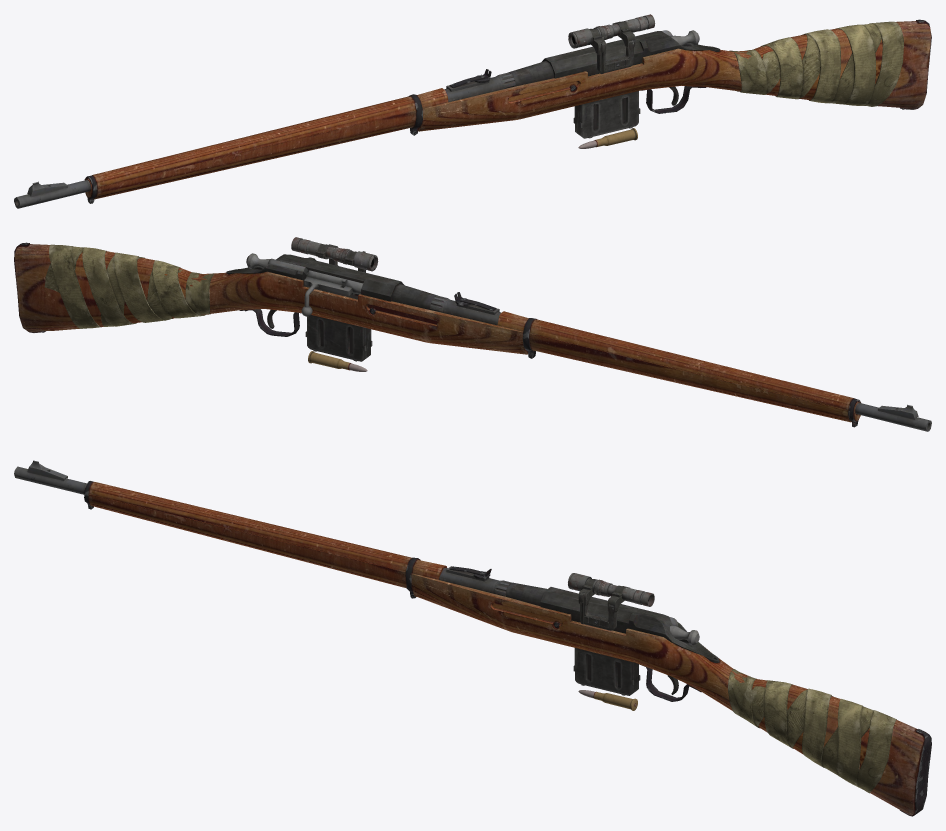
Rendered from sniper.glb.
3 renders of one model, top to bottom at view 1: azimuth 30°, elevation 25°; view 2: azimuth 150°, elevation 25°; view 3: azimuth 330°, elevation 25°, orthographic.
Parts seen in each view (by area): view 1: bolt_action_rifle_7_62, bolt_action_rifle_7_62_wrap, bolt_action_rifle_7_62_scope, bolt_action_rifle_7_62_bullet_54mm; view 2: bolt_action_rifle_7_62, bolt_action_rifle_7_62_wrap, bolt_action_rifle_7_62_scope, bolt_action_rifle_7_62_bolt_a, bolt_action_rifle_7_62_bullet_54mm, bolt_action_rifle_7_62_bolt_b; view 3: bolt_action_rifle_7_62, bolt_action_rifle_7_62_wrap, bolt_action_rifle_7_62_scope.
Part boxes in pixels (left/top/right/bottom): bolt_action_rifle_7_62: left=14, top=19, right=931, bottom=208; bolt_action_rifle_7_62_wrap: left=729, top=21, right=903, bottom=106; bolt_action_rifle_7_62_scope: left=568, top=14, right=655, bottom=74; bolt_action_rifle_7_62_bullet_54mm: left=578, top=128, right=637, bottom=148; bolt_action_rifle_7_62: left=14, top=242, right=931, bottom=431; bolt_action_rifle_7_62_wrap: left=44, top=244, right=214, bottom=328; bolt_action_rifle_7_62_scope: left=291, top=237, right=378, bottom=272; bolt_action_rifle_7_62_bolt_a: left=301, top=270, right=363, bottom=316; bolt_action_rifle_7_62_bullet_54mm: left=308, top=351, right=367, bottom=371; bolt_action_rifle_7_62_bolt_b: left=246, top=253, right=355, bottom=294; bolt_action_rifle_7_62: left=14, top=460, right=931, bottom=816; bolt_action_rifle_7_62_wrap: left=728, top=669, right=896, bottom=793; bolt_action_rifle_7_62_scope: left=568, top=573, right=654, bottom=630.
Bounding box in the file's own units: 1.23 × 0.2045 × 0.0666.
Materials: 3 (3 with a texture image).
